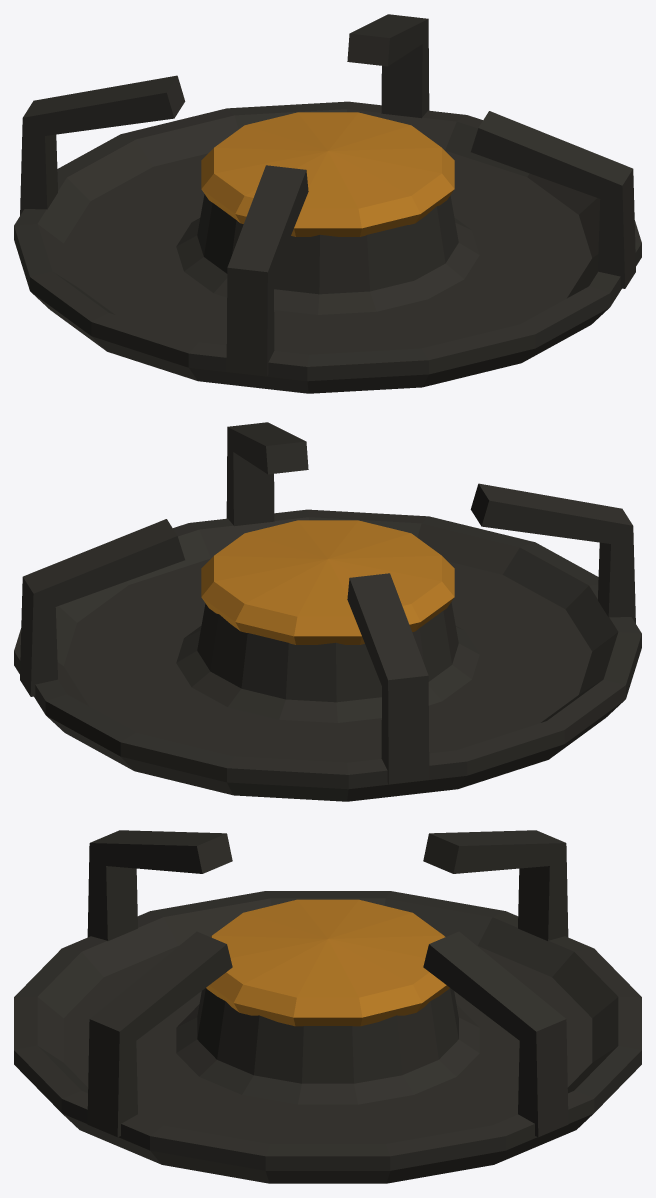
The model's file is SM_Cook_GasBurner_01.fbx.
The picture shows the model from 3 angles, top to bottom: view 1: azimuth 30°, elevation 25°; view 2: azimuth 150°, elevation 25°; view 3: azimuth 270°, elevation 25°; orthographic projection.
Parts seen in each view (by area): view 1: SM_Cook_GasBurner_01; view 2: SM_Cook_GasBurner_01; view 3: SM_Cook_GasBurner_01.
Boxes of the visible parts, box(x1,y1,x2,y2) form: SM_Cook_GasBurner_01: box(14, 14, 641, 393); SM_Cook_GasBurner_01: box(14, 422, 641, 801); SM_Cook_GasBurner_01: box(14, 830, 641, 1183).
Size of the model in its own units: 0.2354 by 0.0708 by 0.2354.
Materials: 1 (1 with a texture image).
